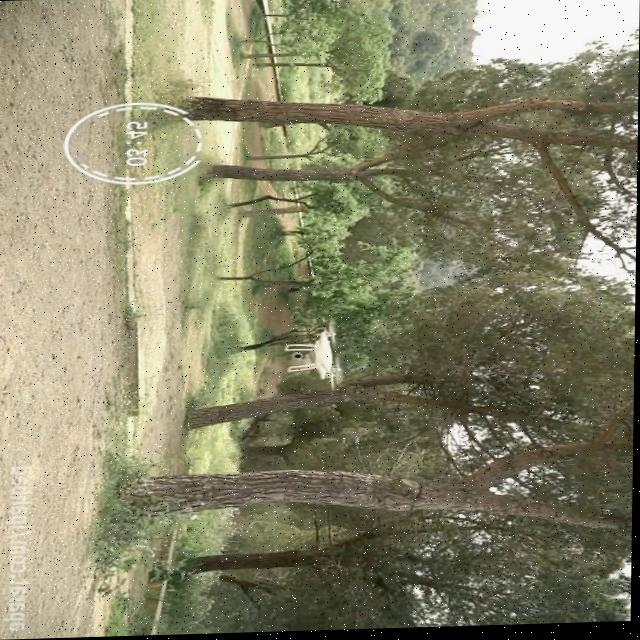drone: (286, 319, 342, 392)
